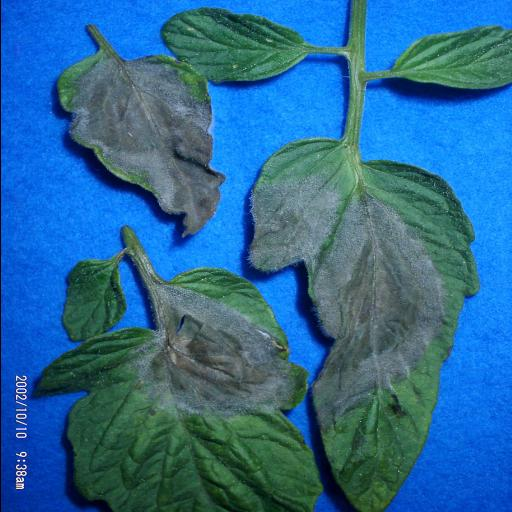Healthy: (155, 10, 306, 82), (390, 26, 512, 90), (58, 258, 130, 344)
Late Blight: (238, 138, 478, 512), (25, 264, 306, 512), (53, 52, 227, 242)
